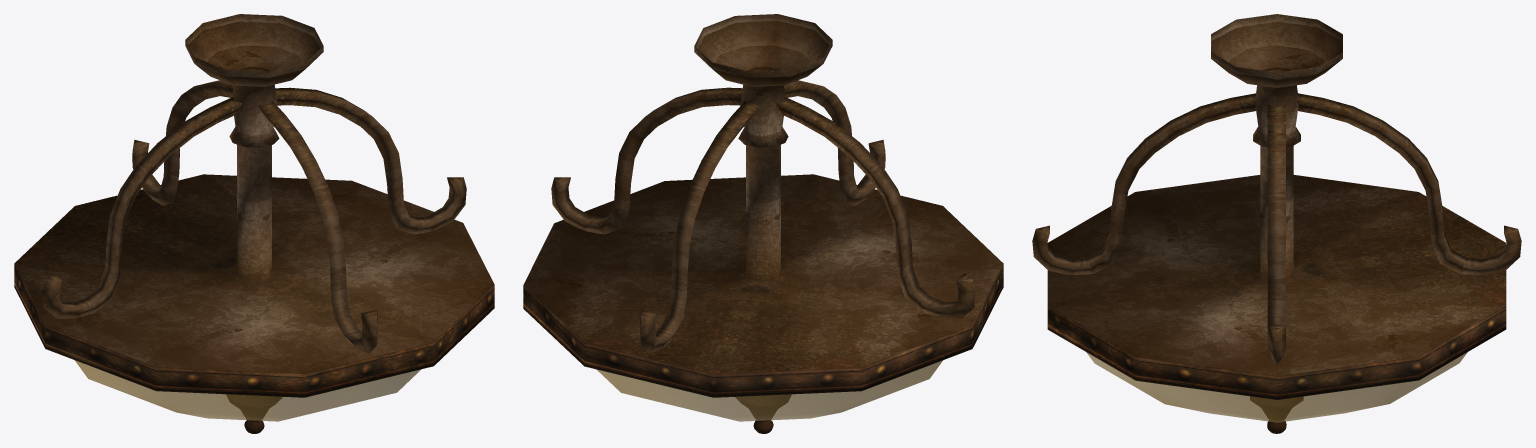
File: light.FBX
3 views of the same model, side by side, from view 1: azimuth 30°, elevation 25°; view 2: azimuth 150°, elevation 25°; view 3: azimuth 270°, elevation 25° (orthographic).
Visible parts, largest first — view 1: light01, light02; view 2: light01, light02; view 3: light01, light02.
Boxes of the visible parts, <box> form: light01: <box>14,14,494,433</box>; light02: <box>75,360,420,421</box>; light01: <box>523,14,1003,433</box>; light02: <box>596,360,942,421</box>; light01: <box>1032,14,1521,433</box>; light02: <box>1086,352,1467,422</box>.
Size of the model in its own units: 101 by 88.73 by 101.
